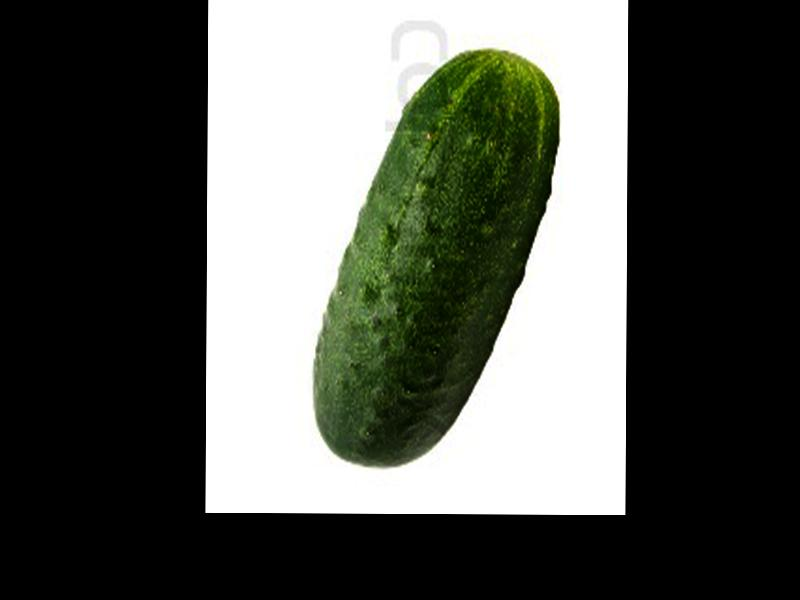Cucumber: (311, 47, 556, 468)
